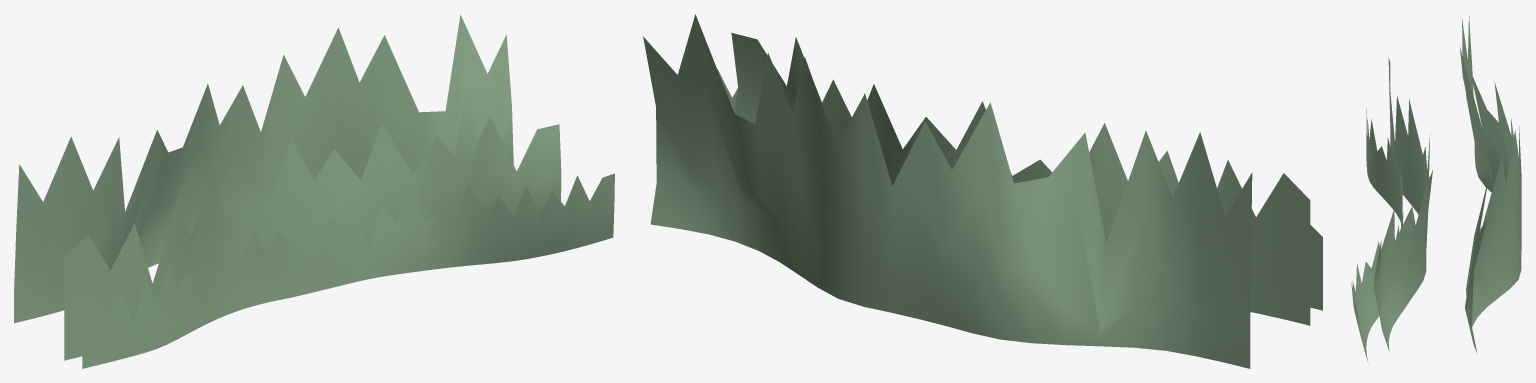
Rendered from Gras.FBX.
3 views of the same model, side by side, from view 1: azimuth 30°, elevation 25°; view 2: azimuth 150°, elevation 25°; view 3: azimuth 270°, elevation 25° (orthographic). The views are drawn at different scales.
Visible parts, largest first — view 1: Object001; view 2: Object001; view 3: Object001.
Part boxes in pixels (left/top/right/bottom): Object001: left=14, top=14, right=614, bottom=368; Object001: left=643, top=14, right=1322, bottom=368; Object001: left=1351, top=16, right=1521, bottom=363.
Bounding box in the file's own units: 150 × 51.86 × 49.05.
